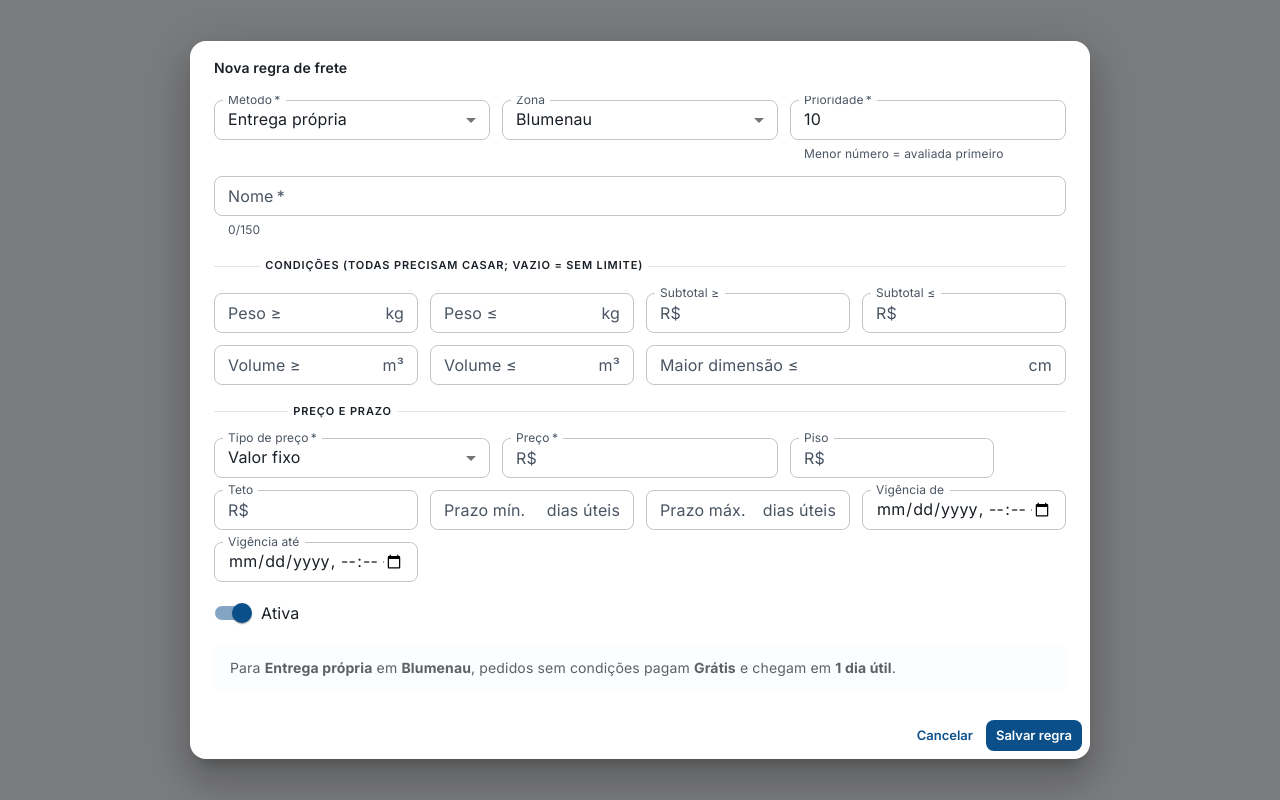
Test: RuleDialog › 422 da API vai para o campo (max_weight_grams → Peso ≤)
Type "Regra" into the field labelled "Nome *" at (640, 196), box [214,176,1066,216]
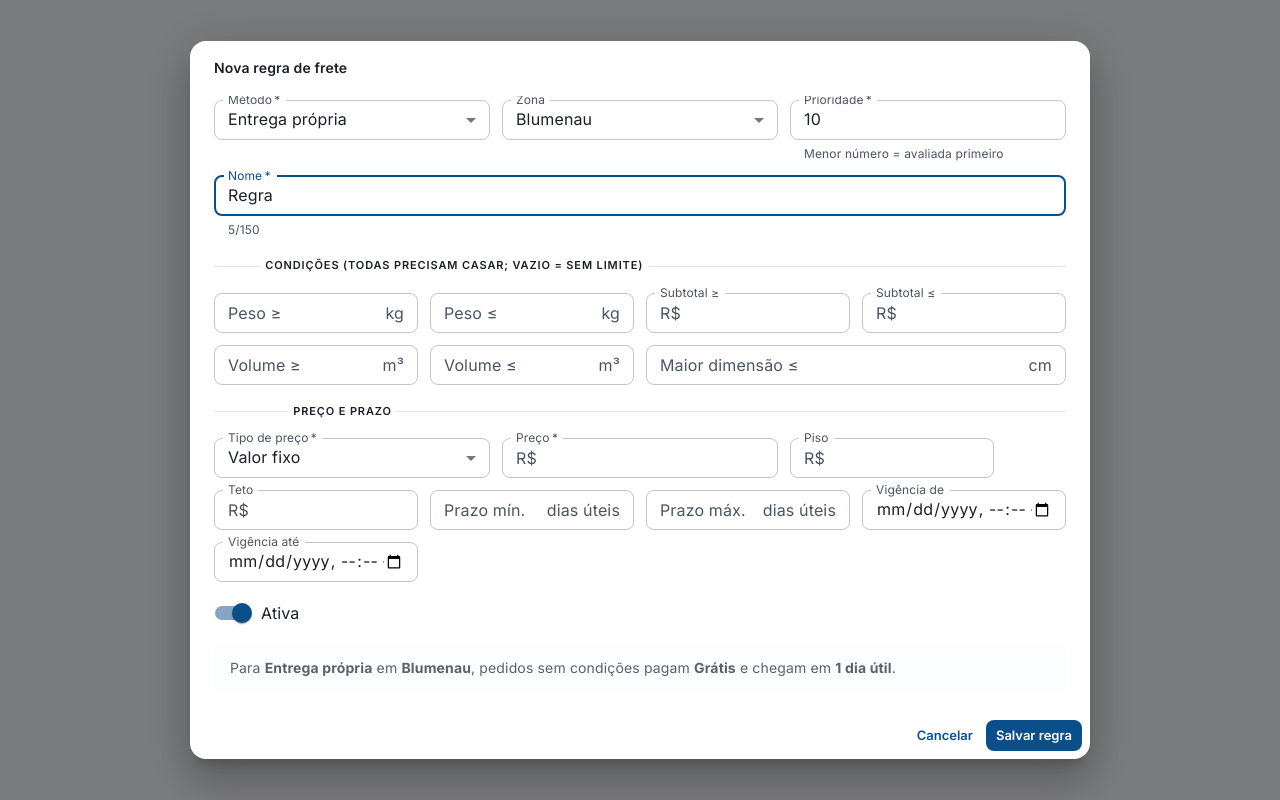
Type "10" into the field labelled "Preço *" at (661, 458), box [545,438,778,478]
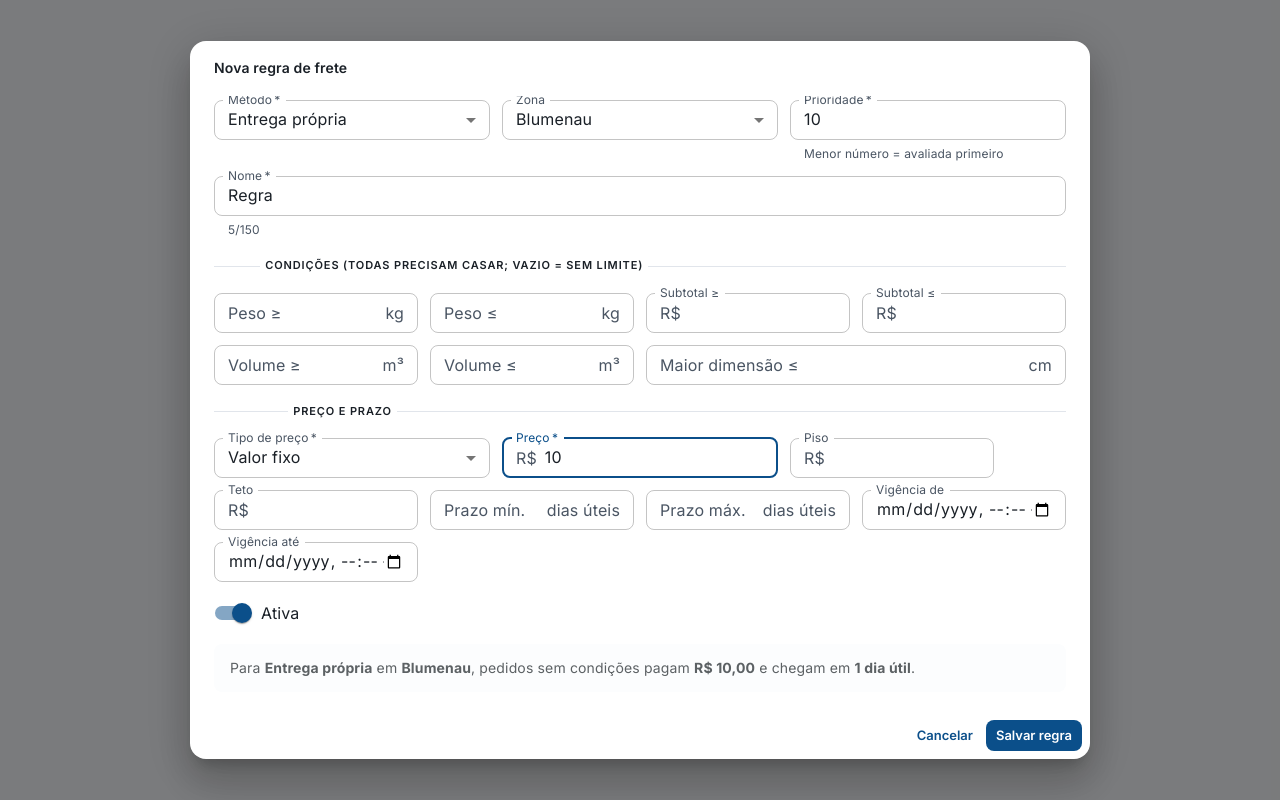
Type "1" into the field labelled "Peso ≤" at (512, 313), box [430,293,594,333]
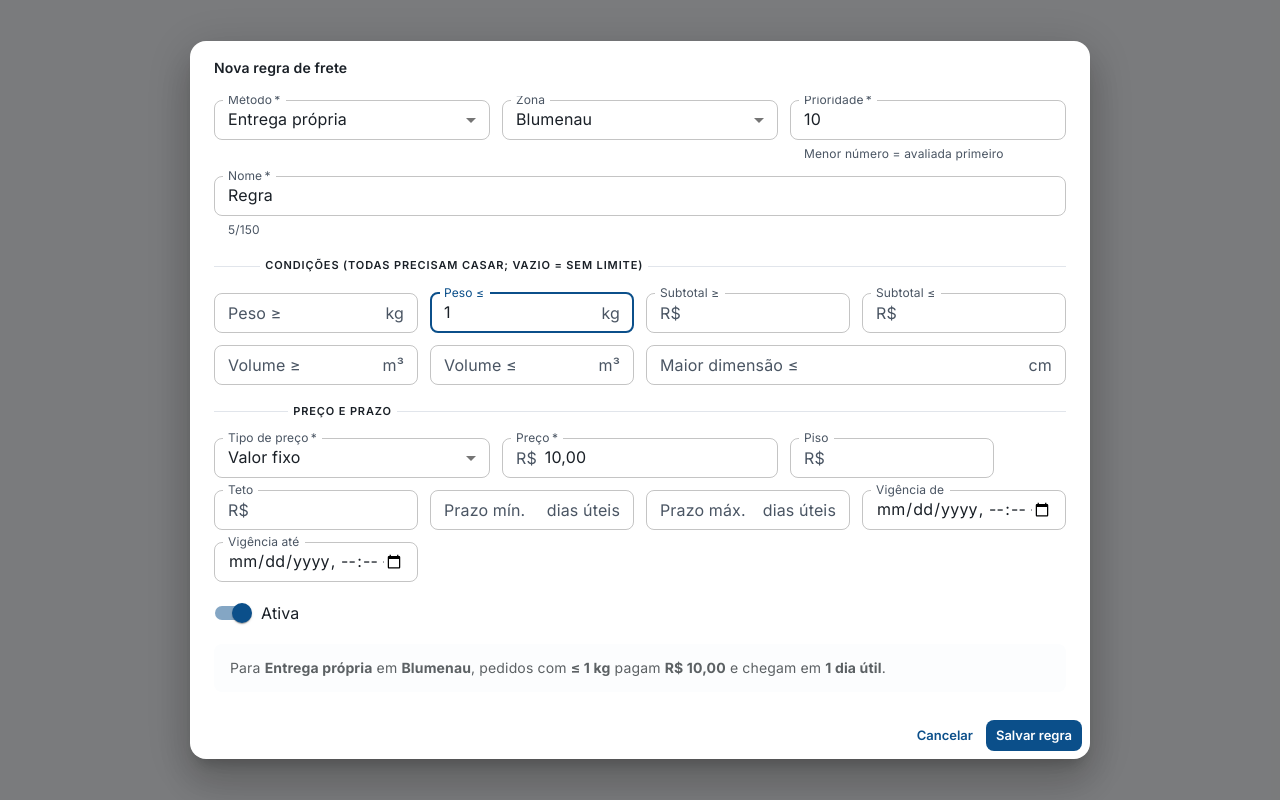
Click the button "Salvar regra" at (1034, 735), box [986,720,1082,751]
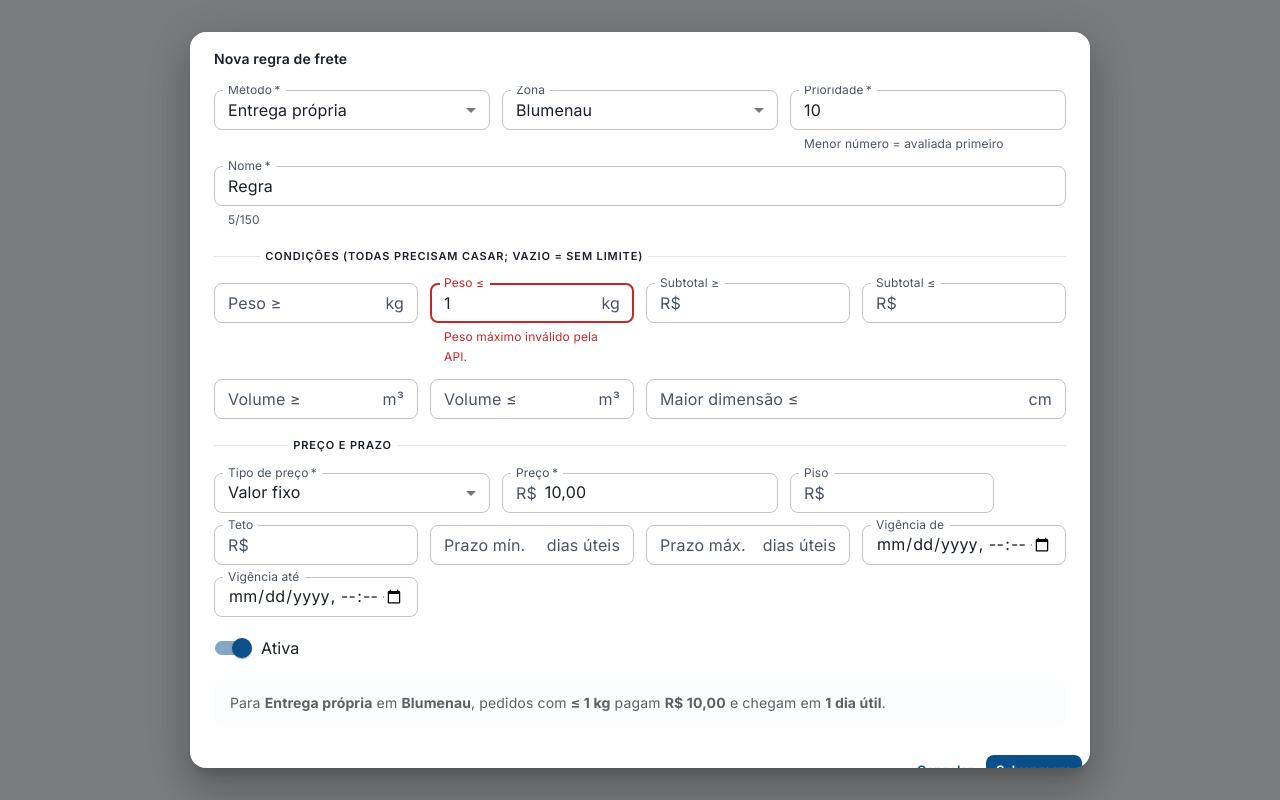
Expected: the text "Peso máximo inválido pela API." is shown, [444,328,620,367]
